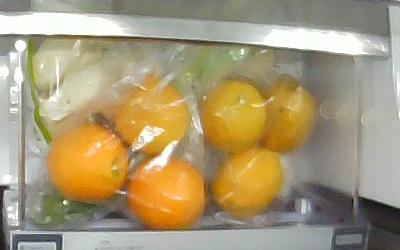orange_vinyl: (47, 123, 129, 203), (113, 75, 191, 155), (128, 156, 207, 228), (197, 80, 267, 151), (212, 145, 284, 214), (252, 78, 316, 154)
